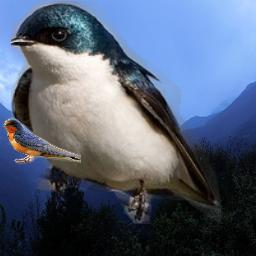Swallow: (11, 1, 221, 224), (1, 117, 81, 165)
